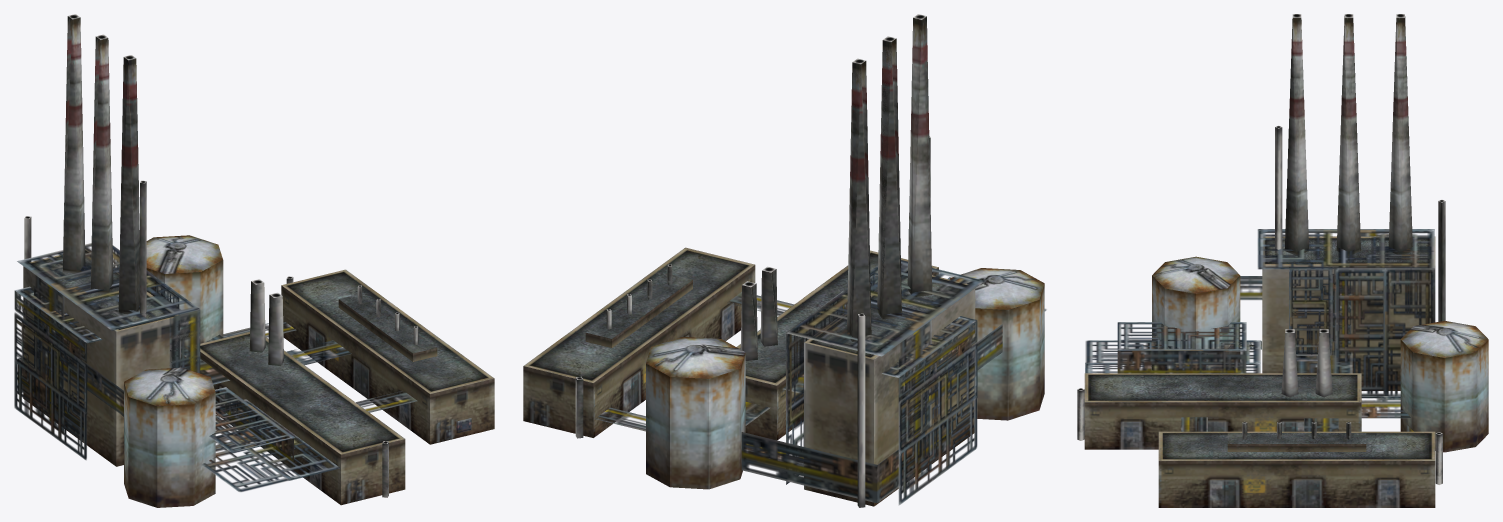
File: Civilian - Civilian Building - Oil Refny - CBOilRefny.glb
3 views of the same model, side by side, from view 1: azimuth 30°, elevation 25°; view 2: azimuth 150°, elevation 25°; view 3: azimuth 270°, elevation 25° (orthographic). The views are drawn at different scales.
Parts seen in each view (by area): view 1: CBOILREFNY; view 2: CBOILREFNY; view 3: CBOILREFNY.
Part boxes in pixels (<box>): CBOILREFNY: <box>14,14,494,507</box>; CBOILREFNY: <box>523,14,1046,507</box>; CBOILREFNY: <box>1077,14,1488,507</box>.
Size of the model in its own units: 137 by 147 by 152.
Materials: 1 (1 with a texture image).
